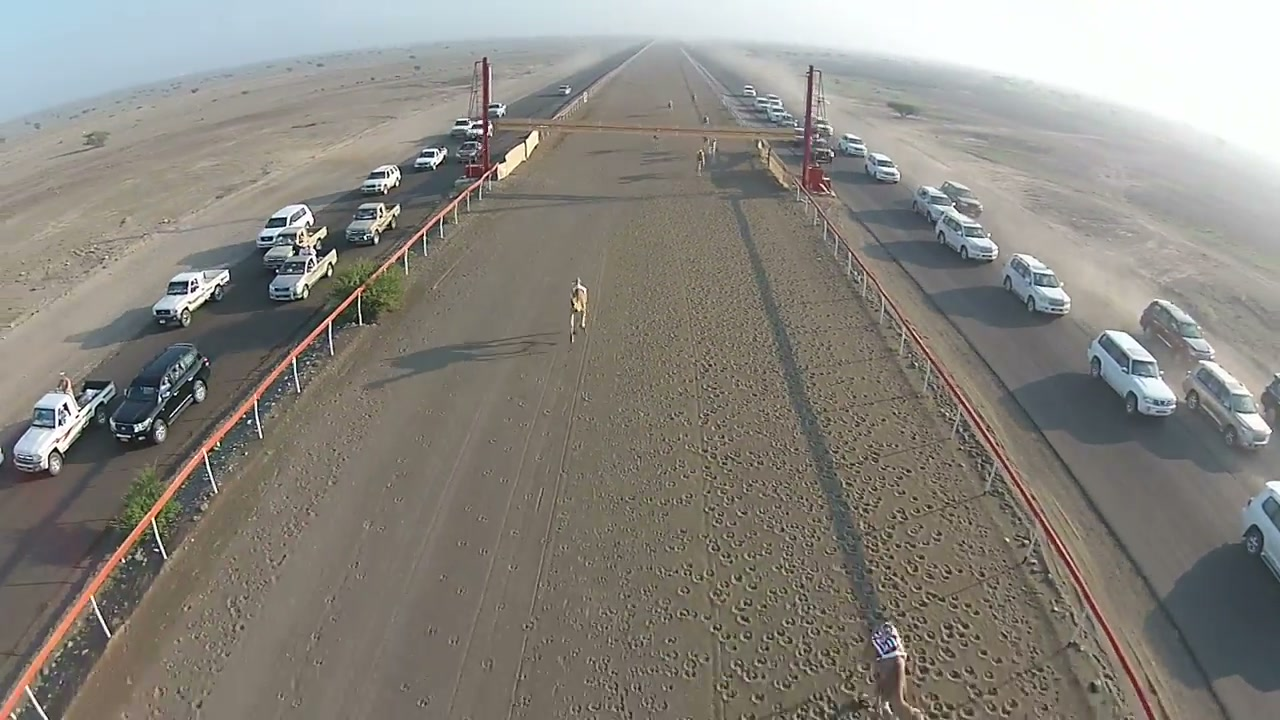animal_footprint: (582, 244, 1030, 717)
